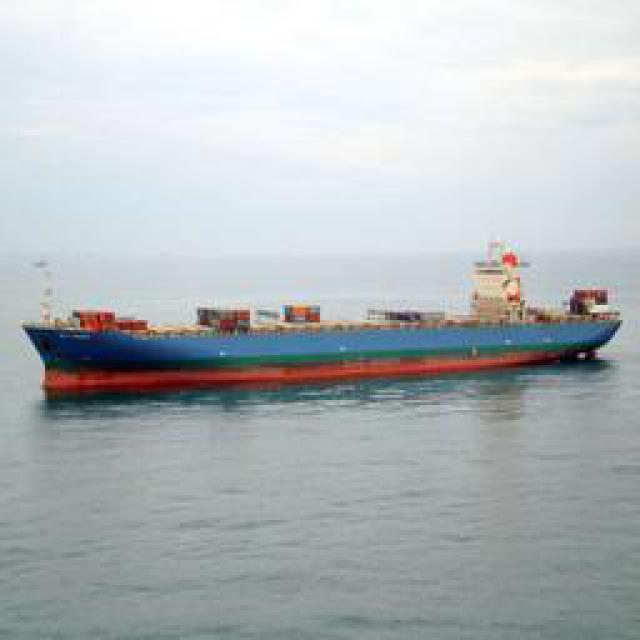Ship: (22, 297, 612, 385)
